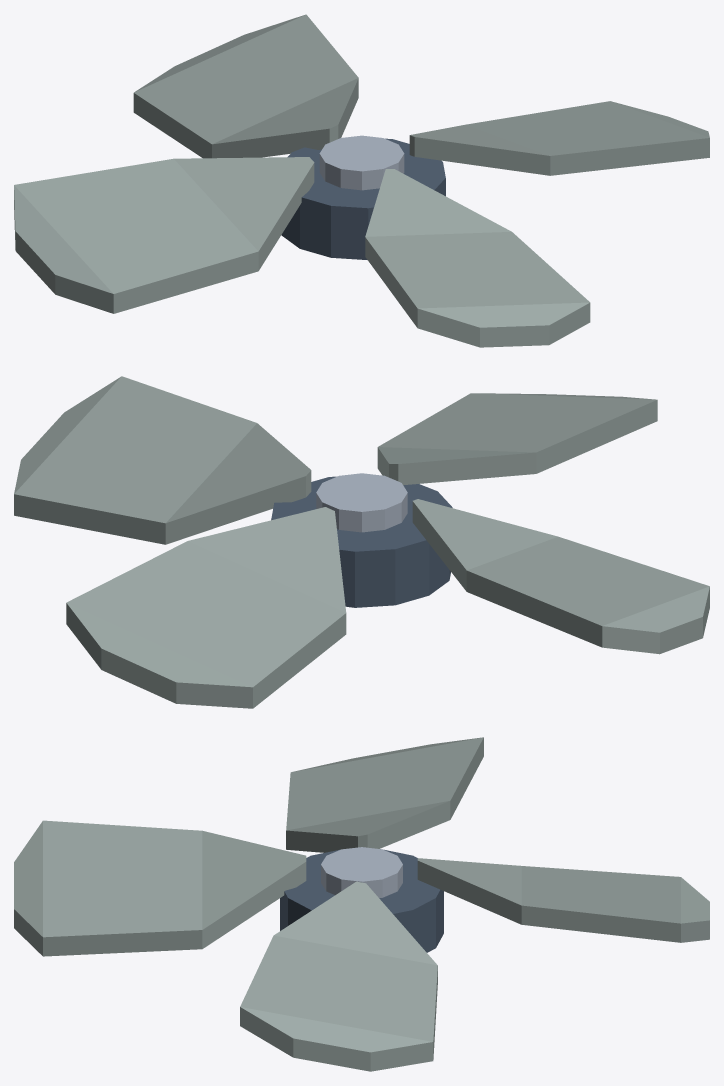
File: prop-quiet.glb
The picture shows the model from 3 angles, top to bottom: view 1: azimuth 30°, elevation 25°; view 2: azimuth 150°, elevation 25°; view 3: azimuth 270°, elevation 25°; orthographic projection. The views are drawn at different scales.
Parts seen in each view (by area): view 1: 002_pitched_aerofoil, 001_pitched_aerofoil, 003_pitched_aerofoil, 000_pitched_aerofoil, 004_center_hub, 005_hub_lock; view 2: 003_pitched_aerofoil, 000_pitched_aerofoil, 002_pitched_aerofoil, 001_pitched_aerofoil, 004_center_hub, 005_hub_lock; view 3: 001_pitched_aerofoil, 000_pitched_aerofoil, 002_pitched_aerofoil, 003_pitched_aerofoil, 004_center_hub, 005_hub_lock.
Boxes of the visible parts, x1,y1,x2,y2 form: 002_pitched_aerofoil: (14, 157, 314, 313); 001_pitched_aerofoil: (365, 169, 590, 347); 003_pitched_aerofoil: (133, 14, 358, 158); 000_pitched_aerofoil: (409, 101, 709, 175); 004_center_hub: (281, 138, 445, 259); 005_hub_lock: (319, 135, 404, 190); 003_pitched_aerofoil: (66, 507, 346, 708); 000_pitched_aerofoil: (14, 376, 311, 544); 002_pitched_aerofoil: (412, 499, 709, 654); 001_pitched_aerofoil: (377, 393, 657, 485); 004_center_hub: (271, 476, 452, 607); 005_hub_lock: (316, 473, 407, 532); 001_pitched_aerofoil: (14, 820, 306, 956); 000_pitched_aerofoil: (240, 881, 437, 1071); 002_pitched_aerofoil: (286, 737, 483, 852); 003_pitched_aerofoil: (417, 858, 709, 942); 004_center_hub: (280, 849, 443, 952); 005_hub_lock: (321, 847, 402, 898).
Size of the model in its own units: 1.44 by 0.1715 by 1.44.
